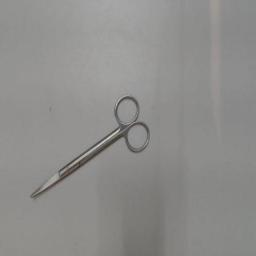Curved Mayo Scissors: (26, 92, 156, 204)
